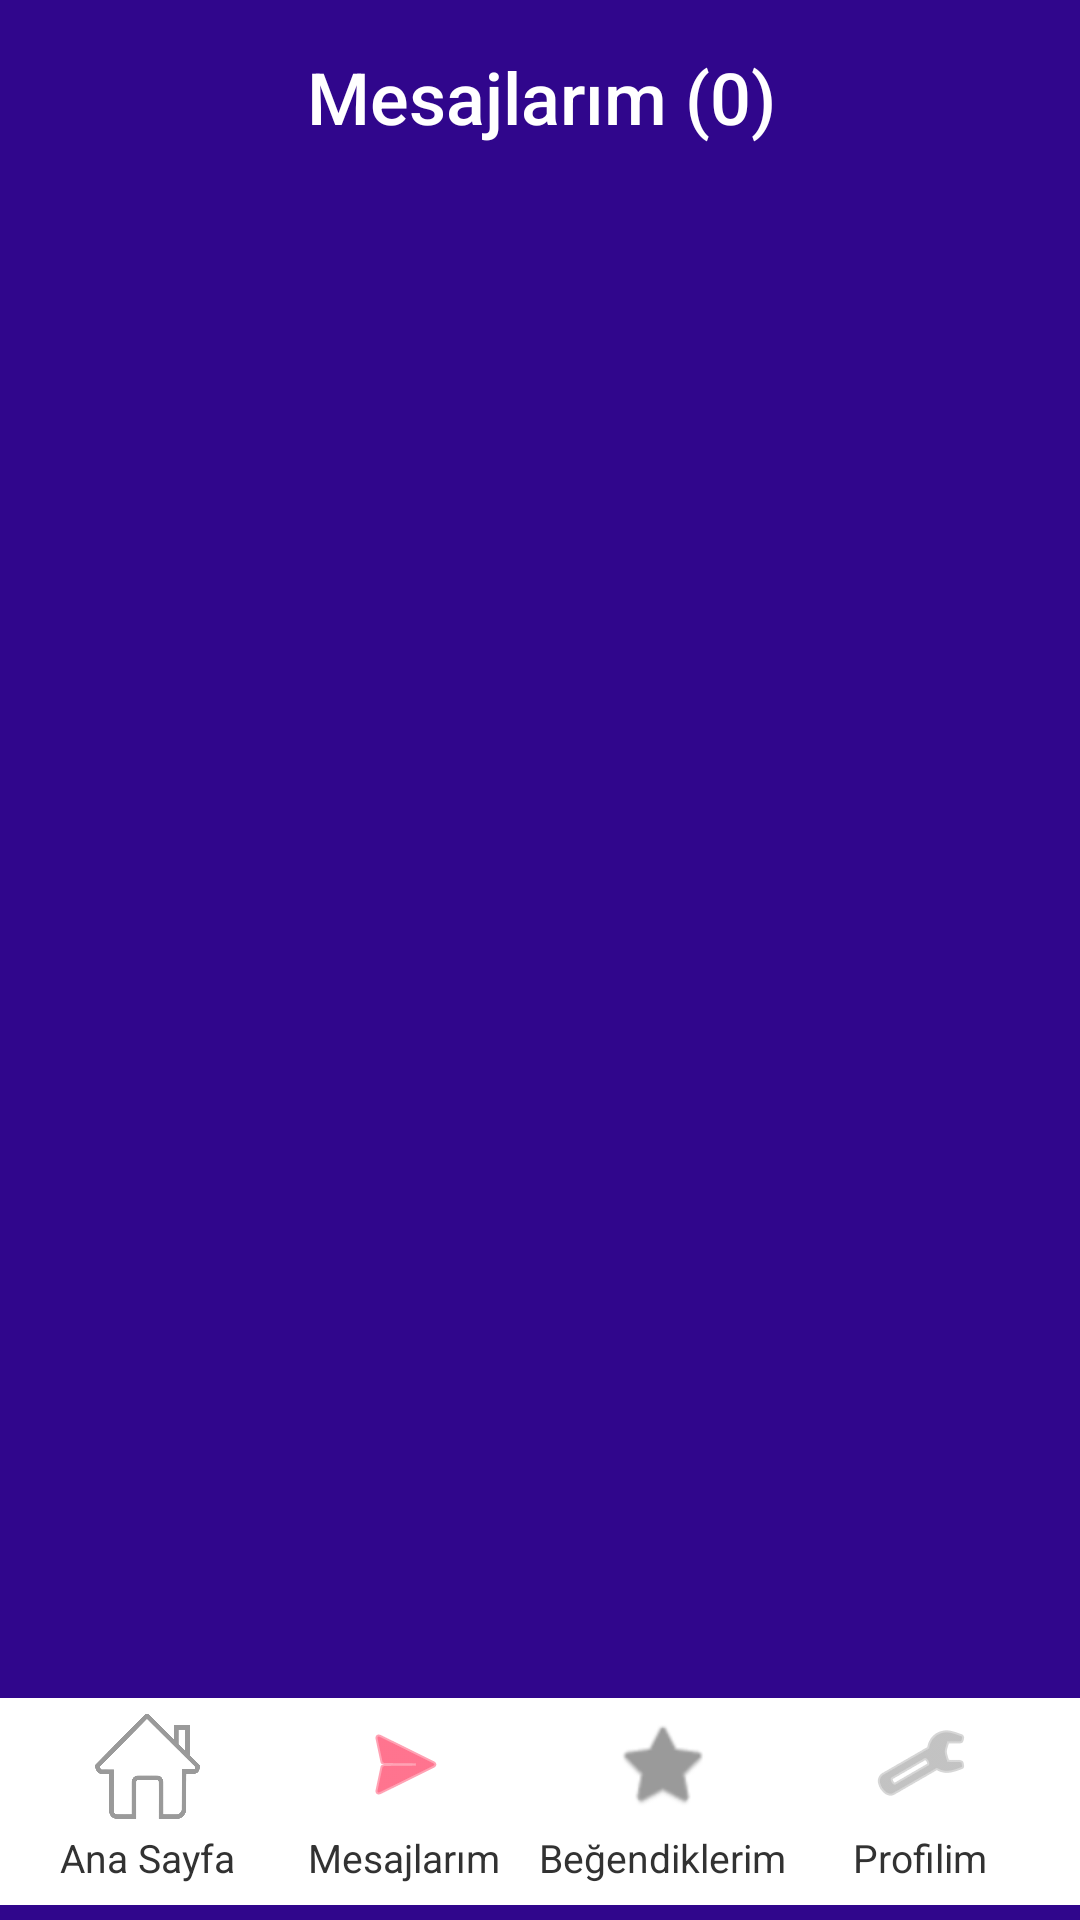

Named icons in this screenshot (1080 × 1920) and their bounding boxes, (x1, y1, x2, y2):
manage: (878, 1730, 964, 1796)
send: (375, 1734, 437, 1795)
star: (624, 1727, 702, 1803)
